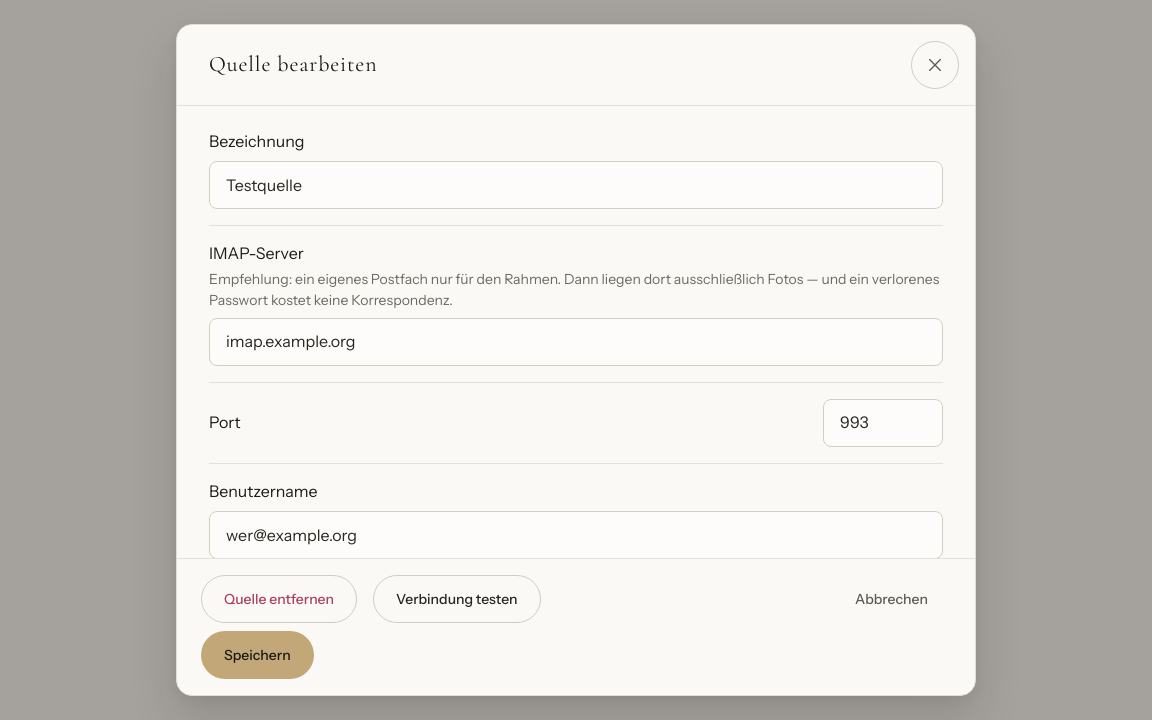
Test: SourceDialog — Felder je Quellenart › nennt beim Postfach die Zahl der ungelesenen Nachrichten
The width and height of the screenshot is (1152, 720).
Click the button "Verbindung testen". click: x=457, y=599
box: [373,575,540,623]
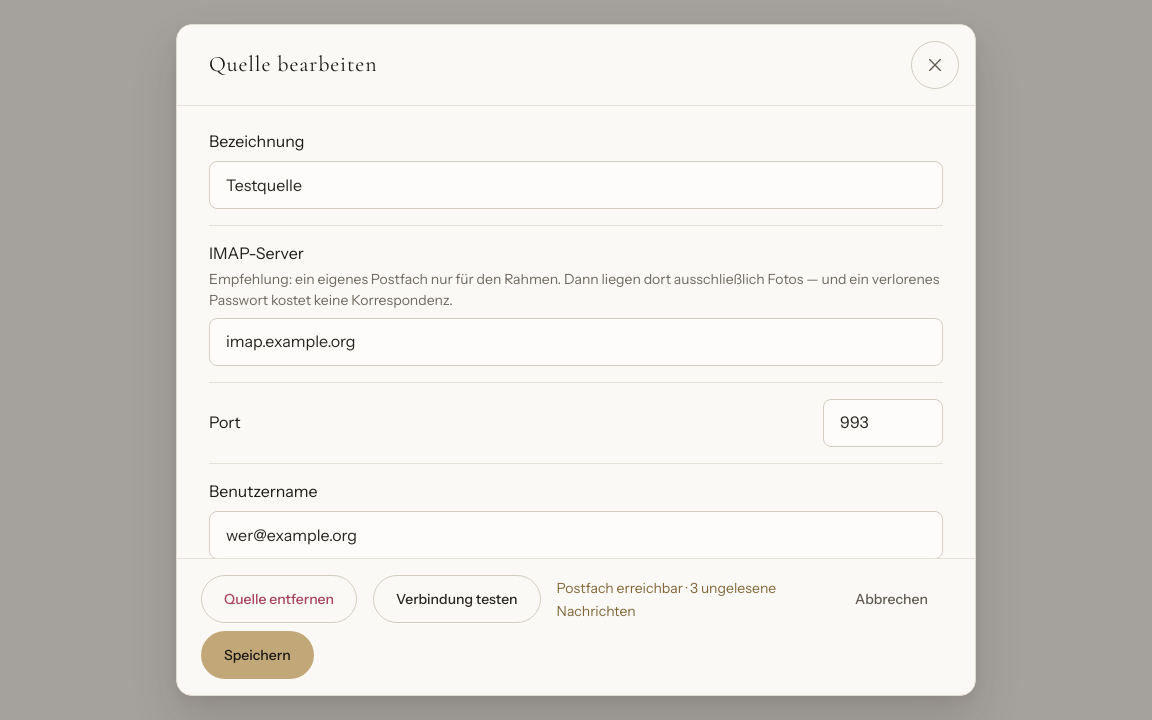
Check: the element with class "result" shows "3", box [557,579,776,620]
